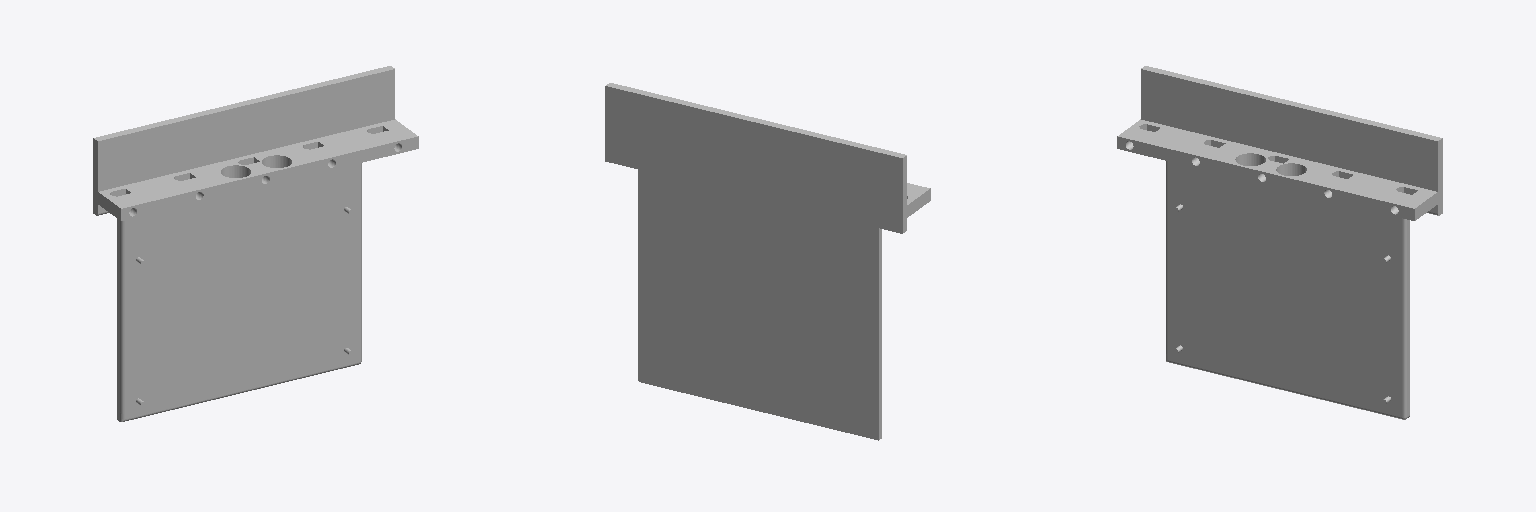
File: main.obj
3 renders of one model, left to right at view 1: azimuth 30°, elevation 25°; view 2: azimuth 150°, elevation 25°; view 3: azimuth 330°, elevation 25°, orthographic.
Visible parts, largest first — view 1: Body6; view 2: Body6; view 3: Body6.
Boxes of the visible parts, <box> form: Body6: <box>93,66,418,421</box>; Body6: <box>605,83,930,440</box>; Body6: <box>1117,66,1442,419</box>.
Size of the model in its own units: 185 by 171 by 30.